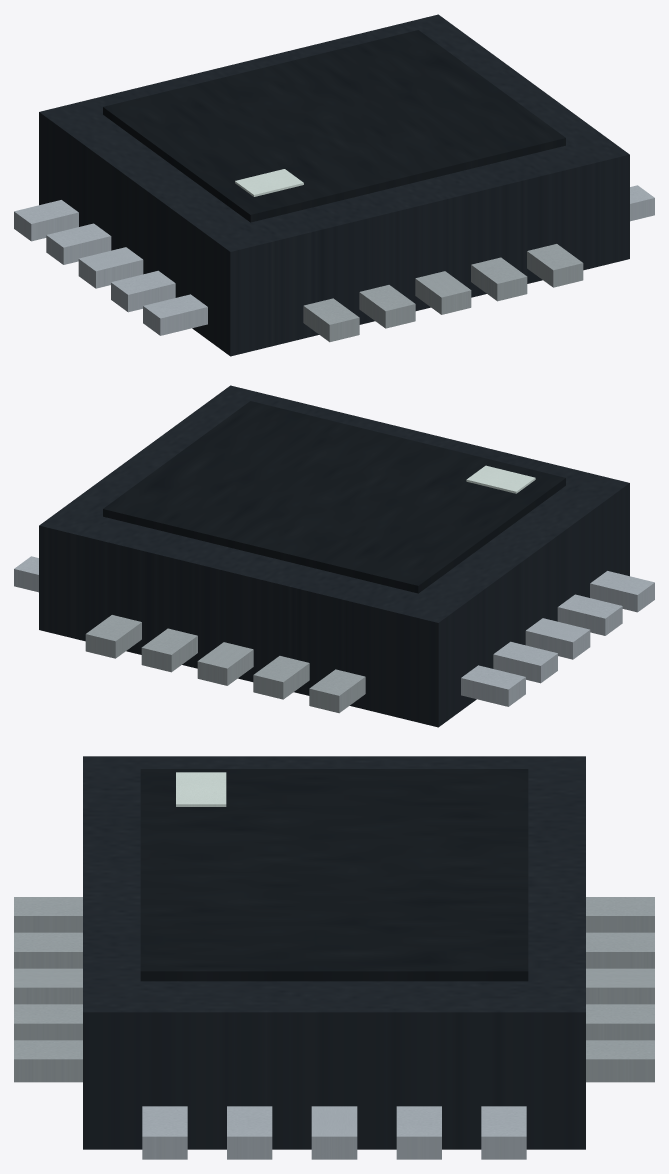
3 renders of one model, top to bottom at view 1: azimuth 30°, elevation 25°; view 2: azimuth 150°, elevation 25°; view 3: azimuth 270°, elevation 25°, orthographic. The views are drawn at different scales.
Visible parts, largest first — view 1: 007_L118_U7; view 2: 007_L118_U7; view 3: 007_L118_U7.
Boxes of the visible parts, box(x1,y1,x2,y2) form: 007_L118_U7: box(14, 14, 654, 356); 007_L118_U7: box(14, 385, 654, 727); 007_L118_U7: box(14, 756, 654, 1159).
Bounding box in the file's own units: 0.0149 × 0.00348 × 0.0127.
Materials: 5 (5 with a texture image).
